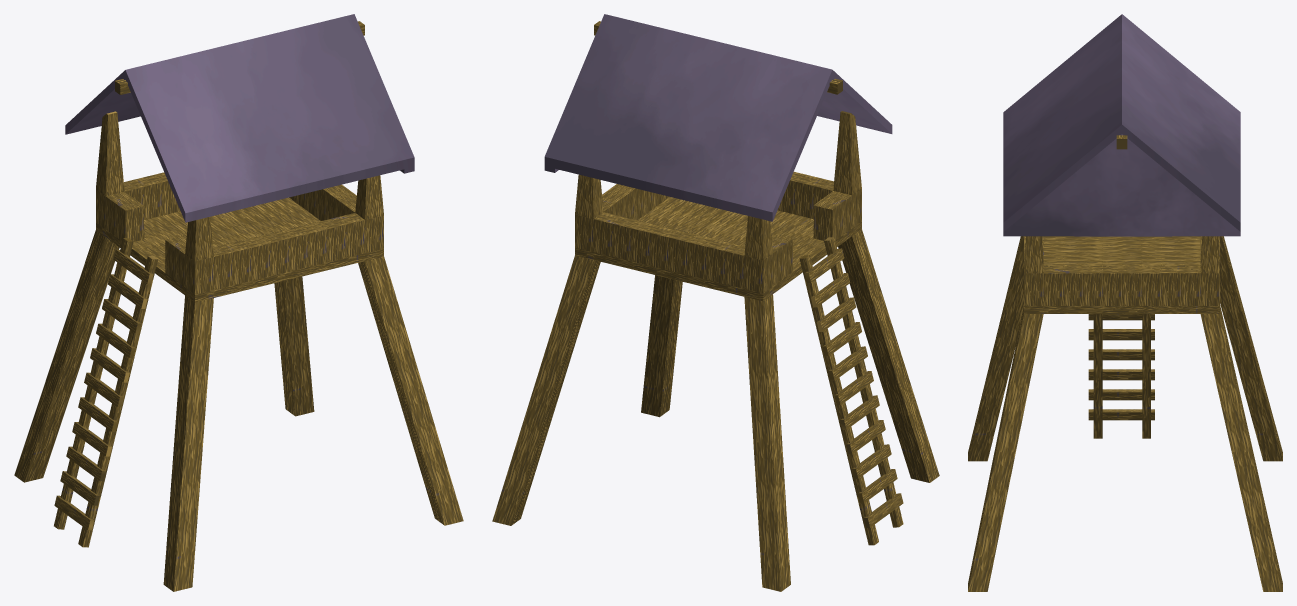
The model's file is Unwrapped_WatchTower2.fbx.
3 views of the same model, side by side, from view 1: azimuth 30°, elevation 25°; view 2: azimuth 150°, elevation 25°; view 3: azimuth 270°, elevation 25° (orthographic).
Visible parts, largest first — view 1: watchtower; view 2: watchtower; view 3: watchtower.
Part boxes in pixels (bbox=[...]): watchtower: bbox=[14, 14, 463, 591]; watchtower: bbox=[492, 14, 939, 591]; watchtower: bbox=[968, 14, 1282, 591].
Size of the model in its own units: 13.17 by 18.16 by 11.45.
